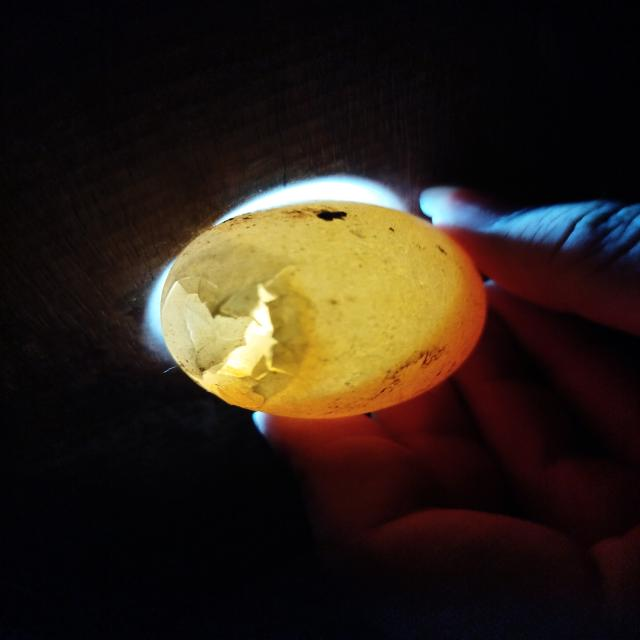Rachadura: (160, 239, 318, 408)
